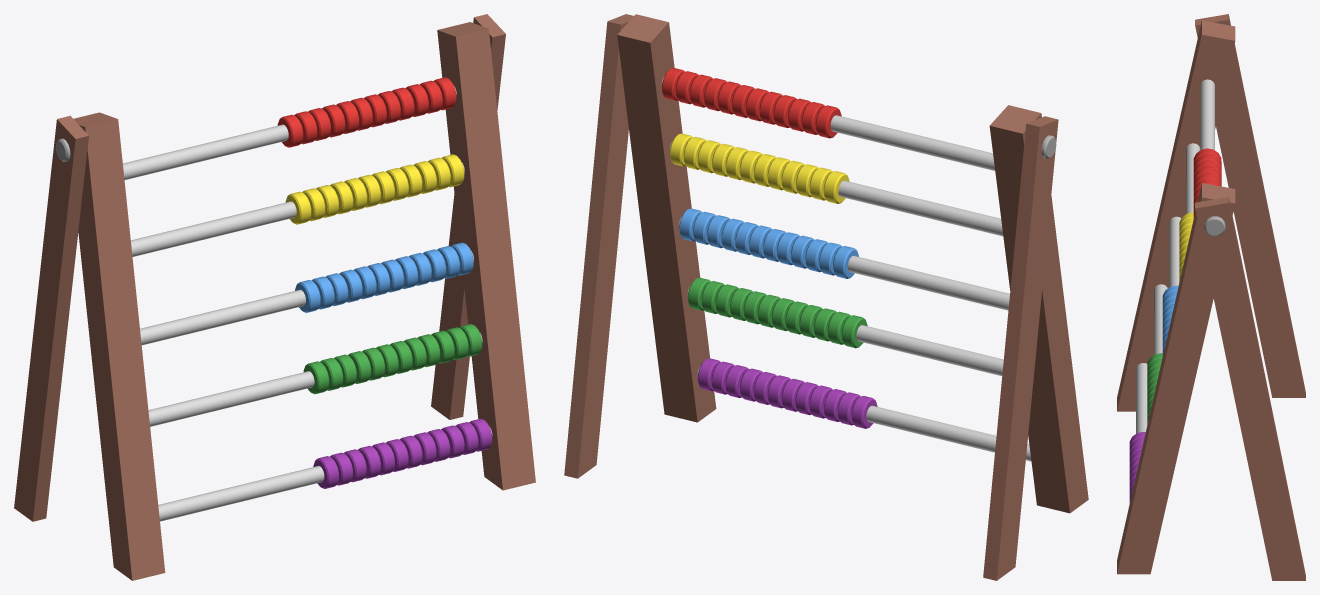
Rendered from Abacus.fbx.
3 renders of one model, left to right at view 1: azimuth 30°, elevation 25°; view 2: azimuth 150°, elevation 25°; view 3: azimuth 270°, elevation 25°, orthographic. The views are drawn at different scales.
Parts seen in each view (by area): view 1: Abacus; view 2: Abacus; view 3: Abacus.
Part boxes in pixels (bbox=[...]): Abacus: bbox=[14, 14, 535, 580]; Abacus: bbox=[564, 14, 1088, 580]; Abacus: bbox=[1117, 14, 1305, 580].
Bounding box in the file's own units: 18.25 × 16.73 × 7.57.
Materials: 1 (1 with a texture image).
